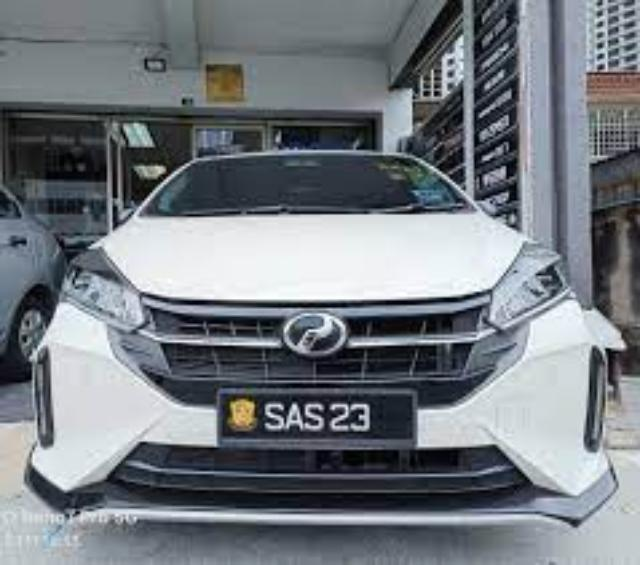License_Plate: (196, 392, 425, 451)
car: (31, 147, 620, 535)
